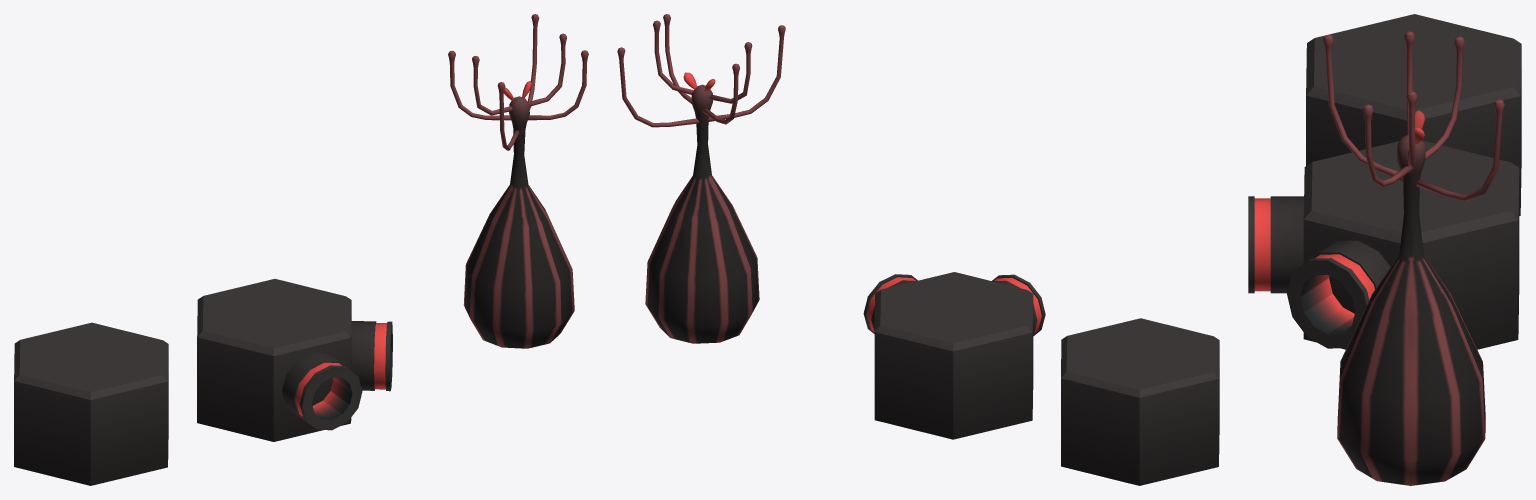
3 views of the same model, side by side, from view 1: azimuth 30°, elevation 25°; view 2: azimuth 150°, elevation 25°; view 3: azimuth 270°, elevation 25° (orthographic). The views are drawn at different scales.
Parts seen in each view (by area): view 1: box_01, box_00, wujian_00; view 2: box_01, box_00, wujian_00; view 3: box_01, wujian_00, box_00.
Part boxes in pixels (x1,y1,x2,y2): box_01: (197,279,392,441); box_00: (14,322,168,485); wujian_00: (448,14,588,348); box_01: (863,272,1045,439); box_00: (1061,318,1219,485); wujian_00: (617,14,785,343); box_01: (1248,141,1519,349); wujian_00: (1323,31,1504,485); box_00: (1306,14,1521,215).
Bounding box in the file's own units: 114 × 58.8 × 34.78.
